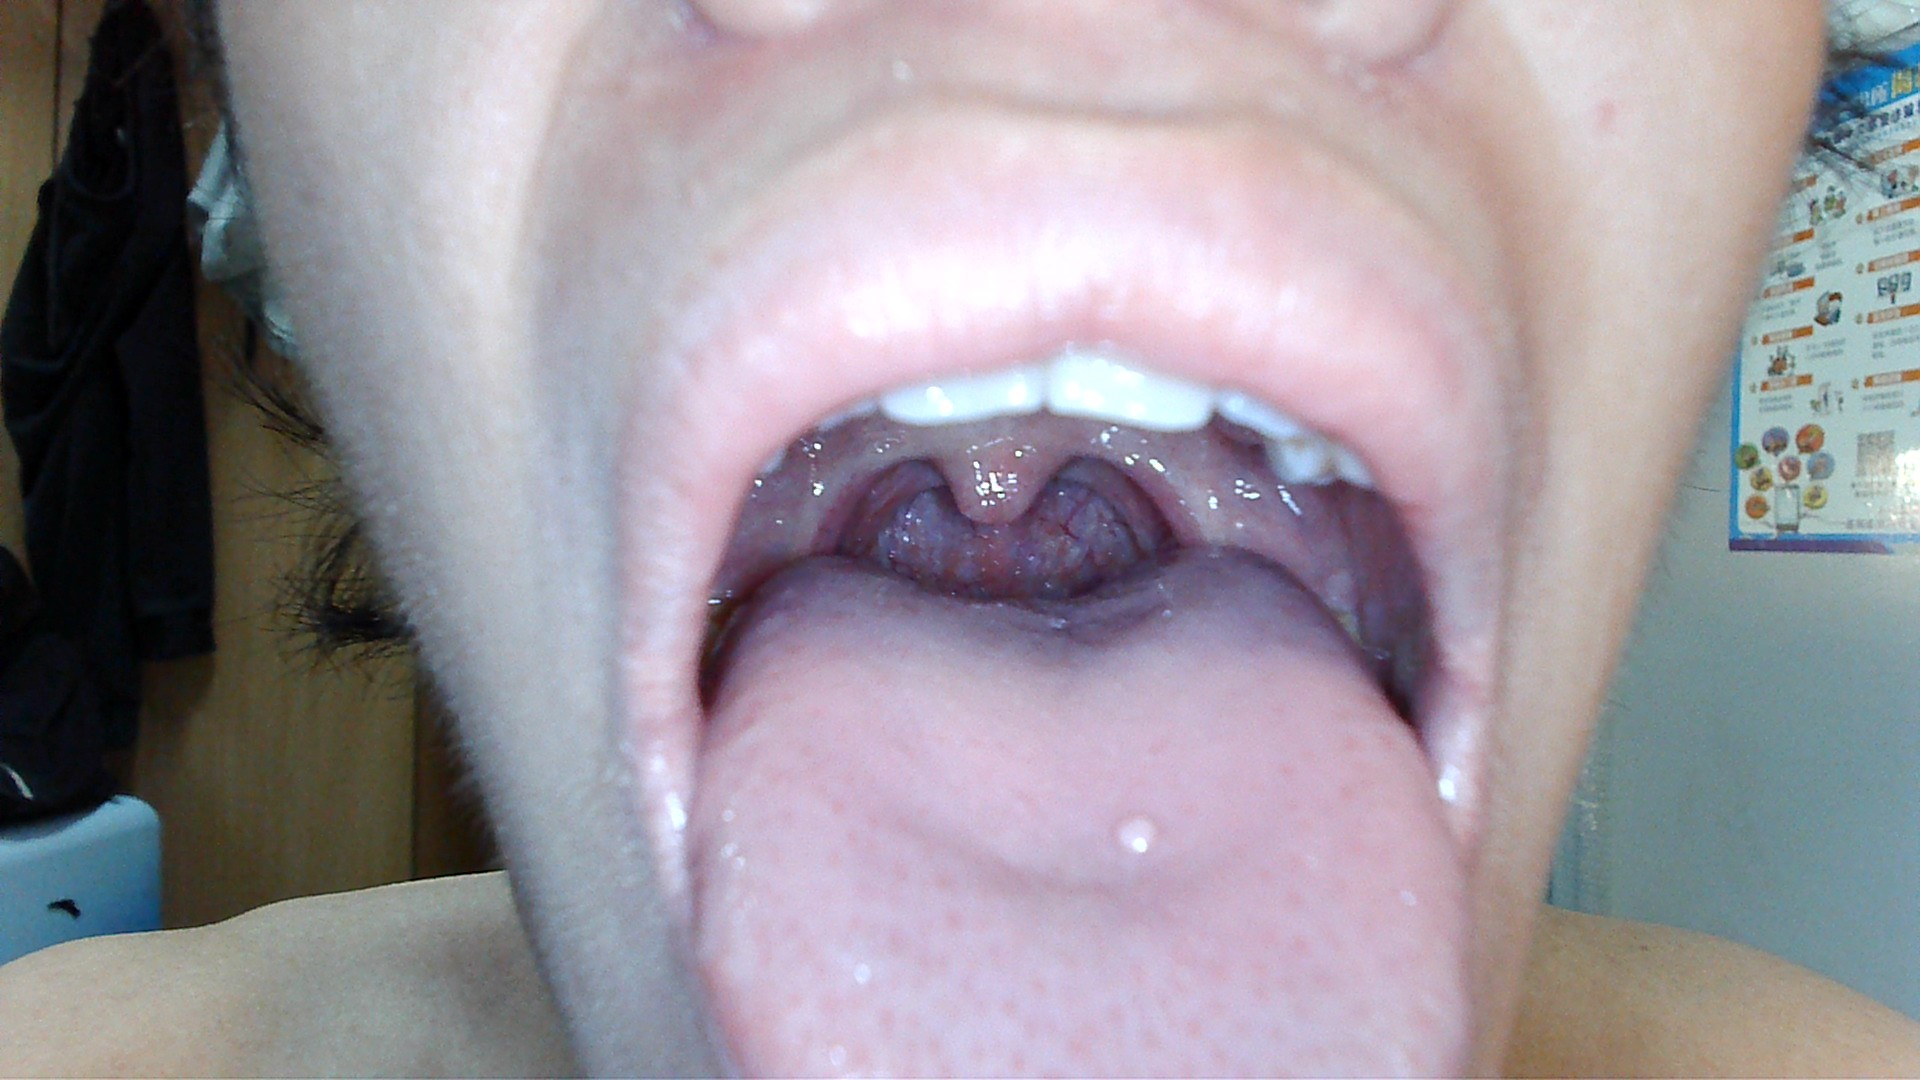throat: (802, 448, 898, 560), (1126, 444, 1211, 553)
